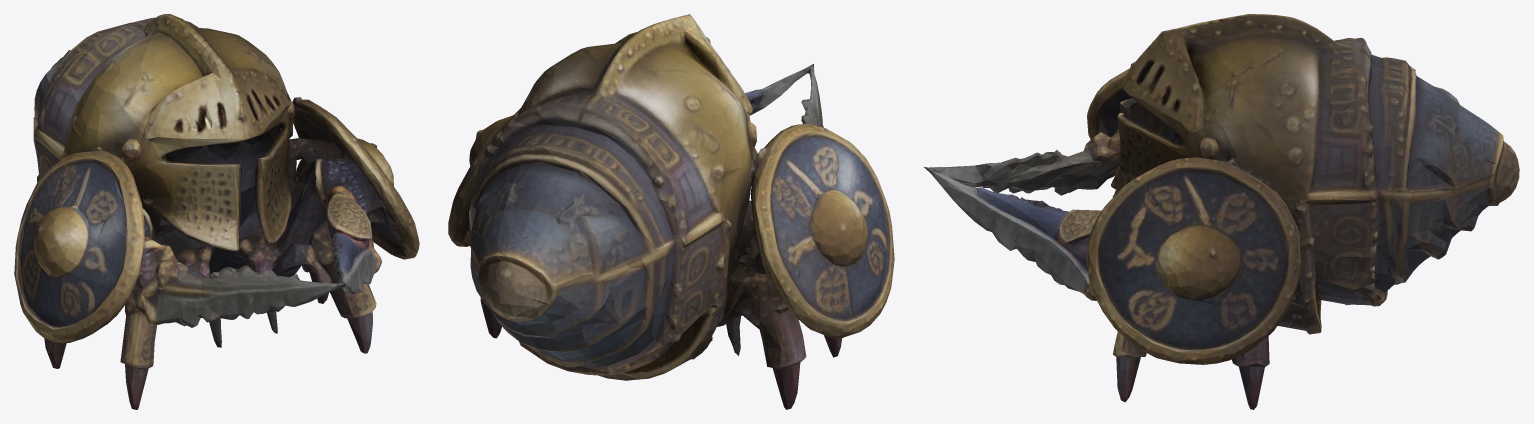
File: caveCrabKnight.glb
The picture shows the model from 3 angles, left to right: view 1: azimuth 30°, elevation 25°; view 2: azimuth 150°, elevation 25°; view 3: azimuth 270°, elevation 25°; orthographic projection. The views are drawn at different scales.
Visible parts, largest first — view 1: world; view 2: world; view 3: world.
Boxes of the visible parts, x1,y1,x2,y2 form: world: (14, 14, 419, 409); world: (448, 14, 894, 409); world: (924, 14, 1519, 409).
Size of the model in its own units: 0.7234 by 0.6034 by 0.9911.
1 material, 1 textured.
